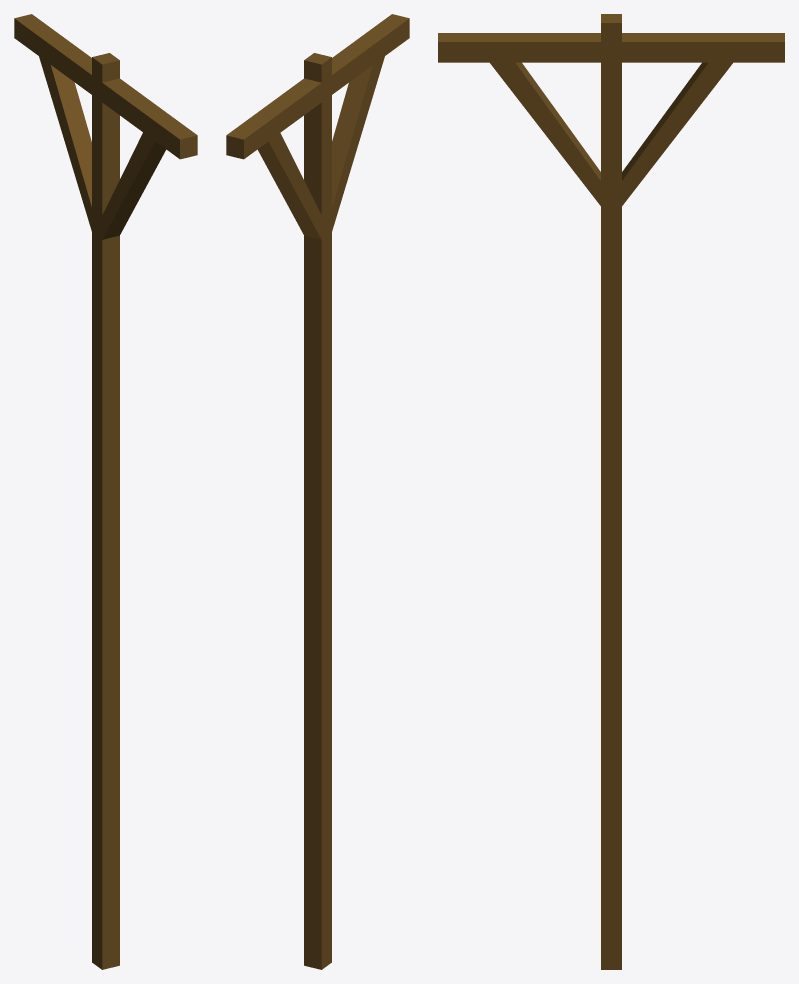
Rendered from co_ElectricPole.fbx.
The picture shows the model from 3 angles, left to right: view 1: azimuth 30°, elevation 25°; view 2: azimuth 150°, elevation 25°; view 3: azimuth 270°, elevation 25°; orthographic projection. The views are drawn at different scales.
Visible parts, largest first — view 1: ElectricPole; view 2: ElectricPole; view 3: ElectricPole.
Boxes of the visible parts, bbox=[...] form: ElectricPole: bbox=[14, 14, 197, 969]; ElectricPole: bbox=[226, 14, 409, 969]; ElectricPole: bbox=[438, 14, 784, 969].
Bounding box in the file's own units: 39.43 × 1935 × 642.
